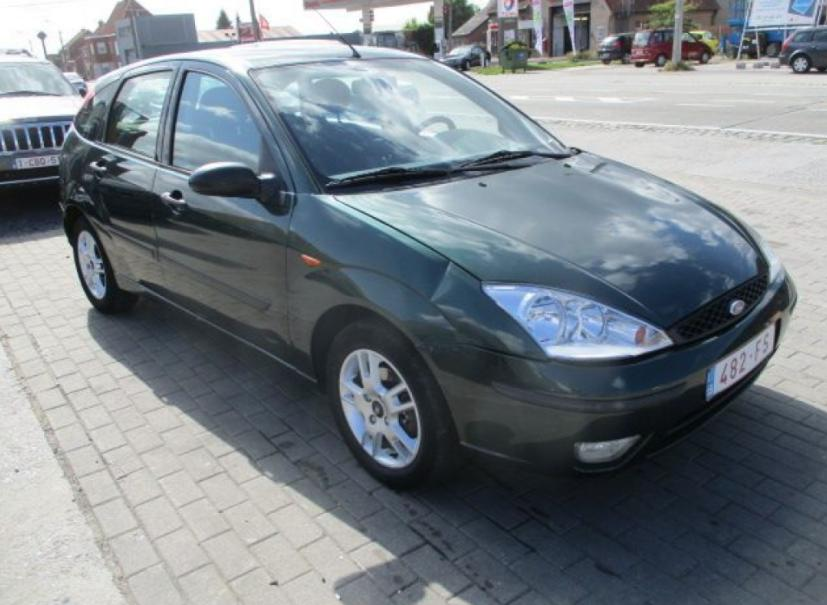Back-door: (82, 61, 183, 297)
Back-wheel: (72, 216, 139, 314)
Back-window: (97, 70, 173, 160), (76, 82, 117, 136)
Fender: (288, 193, 550, 378)
Front-bumper: (417, 262, 798, 475)
Front-door: (153, 61, 294, 362)
Front-wheel: (325, 319, 459, 488)
Front-window: (171, 71, 281, 176)
Grille: (669, 268, 770, 345)
Headlight: (484, 282, 674, 362), (738, 217, 781, 285)
Hood: (335, 151, 772, 346)
License-plate: (707, 320, 777, 402)
Mirror: (188, 162, 291, 217)
Quarter-panel: (59, 123, 98, 216)
Rocker-panel: (116, 274, 317, 386)
Roof: (100, 40, 429, 81)
Windshield: (248, 57, 566, 195)
